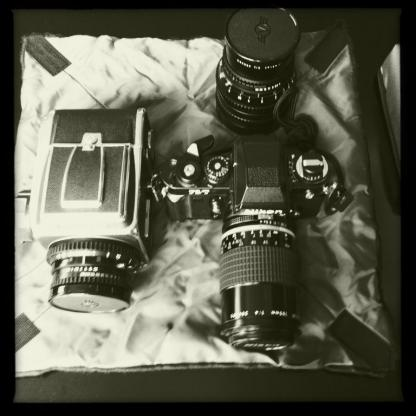Camera: (15, 106, 177, 315), (197, 141, 339, 363), (214, 9, 300, 135)
